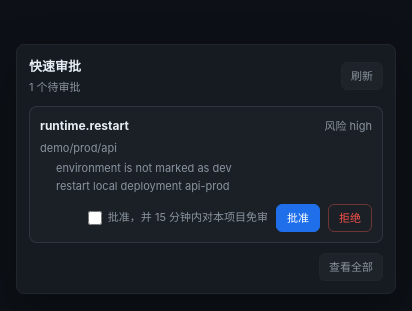
OperationApprovalPopover › approves with project grace when selected
Click the checkbox with test id "approval-popover-grace-opa_1" at (95, 218), box top-left (88, 211), bottom-right (102, 225)
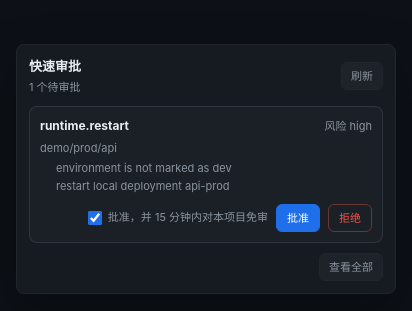
Click the button with test id "approval-popover-approve-opa_1" at (298, 218), box top-left (276, 204), bottom-right (320, 232)
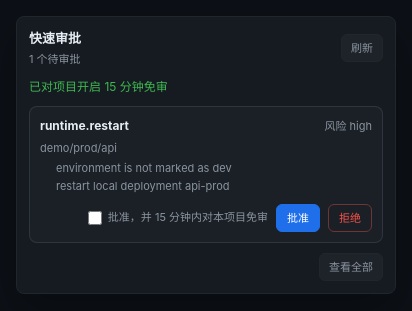
Expected: the text "已对项目开启 15 分钟免审" is shown, top-left (29, 79), bottom-right (168, 94)
